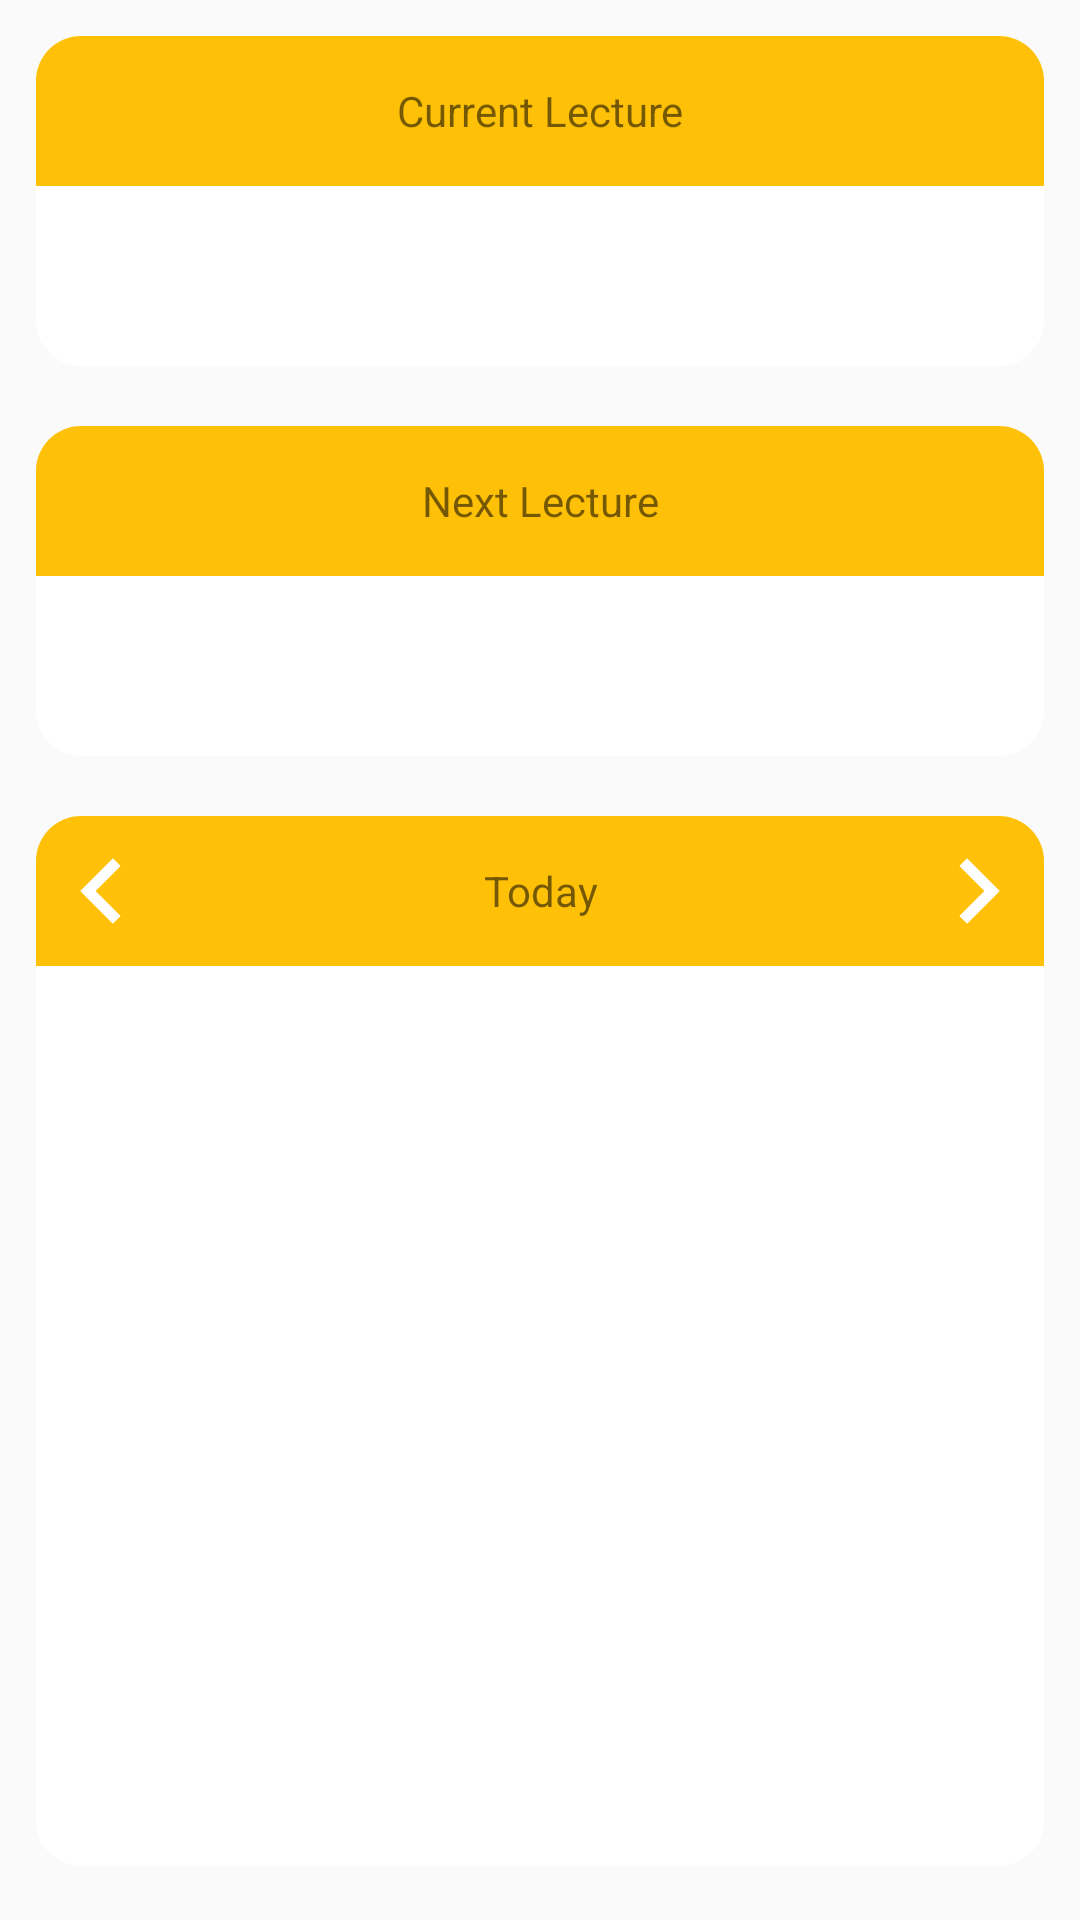

Where icons sit on this 1080 x 1920 app screen, as (x1, y1, x2, y2):
next: (959, 858, 1000, 924)
prev: (80, 858, 121, 924)
